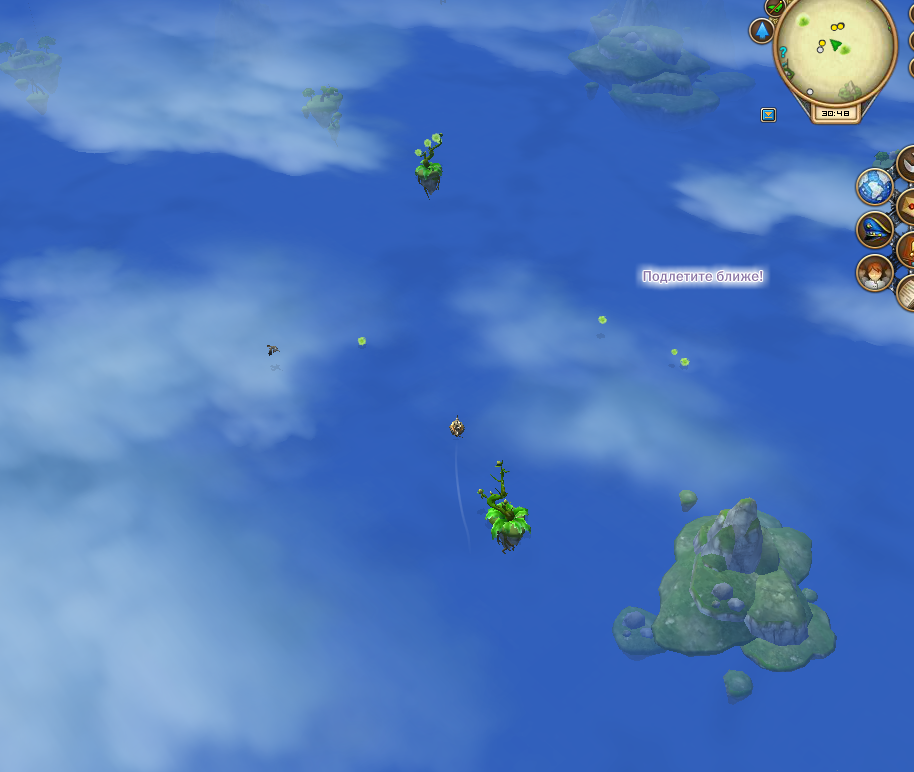dandelion-empty: (473, 454, 536, 547)
dandelion-full: (410, 131, 448, 190)
fluff: (595, 311, 610, 326), (355, 333, 368, 348), (667, 346, 681, 357), (678, 355, 689, 368)
